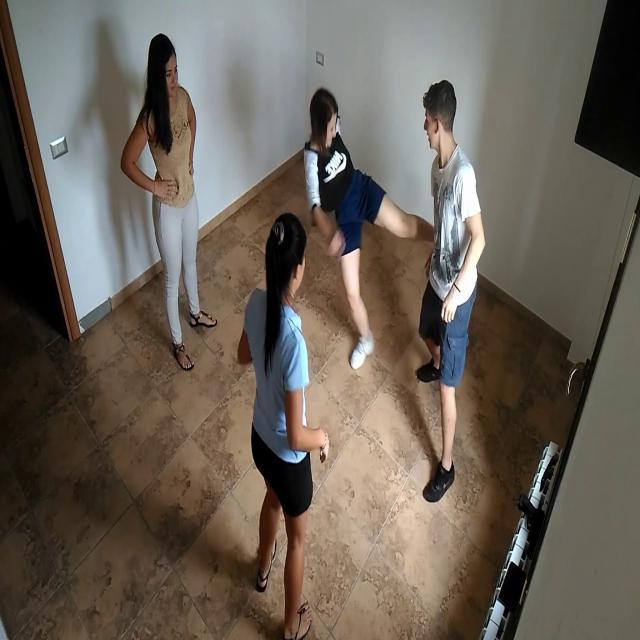non-violence: (234, 212, 326, 637), (114, 34, 218, 368)
violence: (302, 82, 484, 500)
